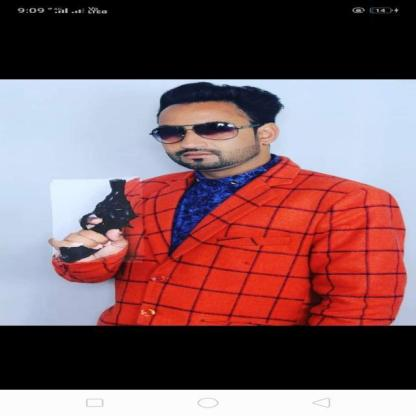handgun: (51, 178, 144, 264)
